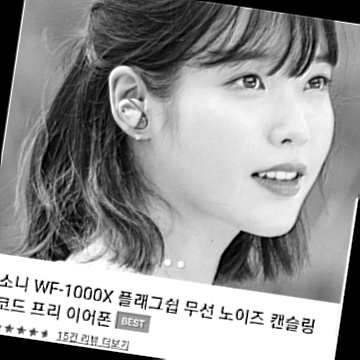earphone: (100, 65, 163, 143)
